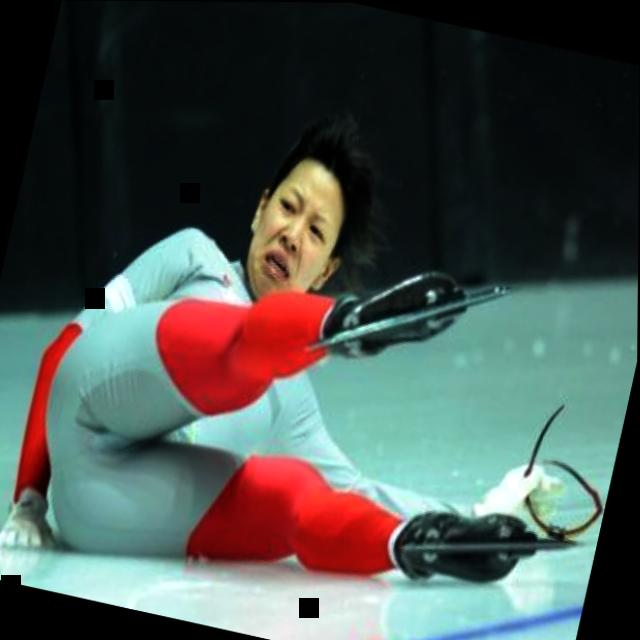Fall-Detected: (0, 6, 638, 640)
